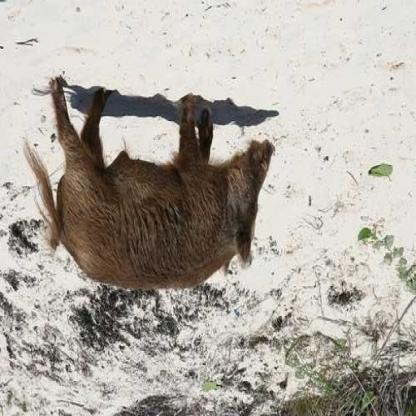boar: (17, 79, 304, 297)
